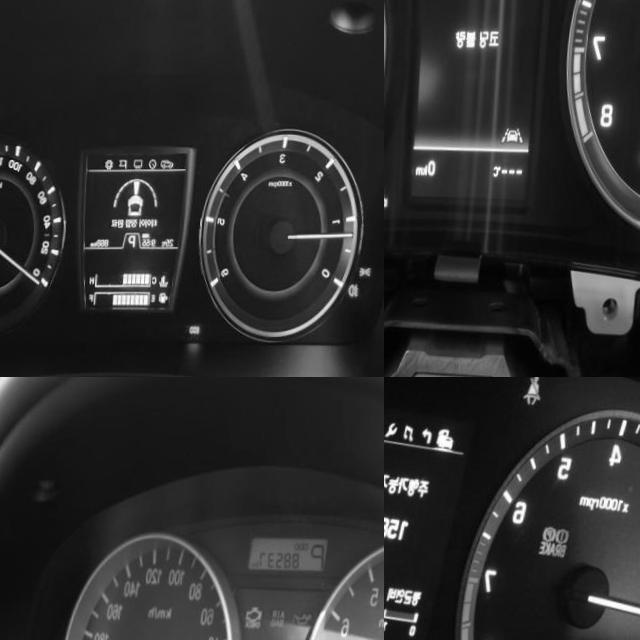FrontFogLight: (353, 285, 366, 299)
LaneCenteringOff: (505, 126, 529, 147)
SideLamp: (364, 268, 377, 279)
